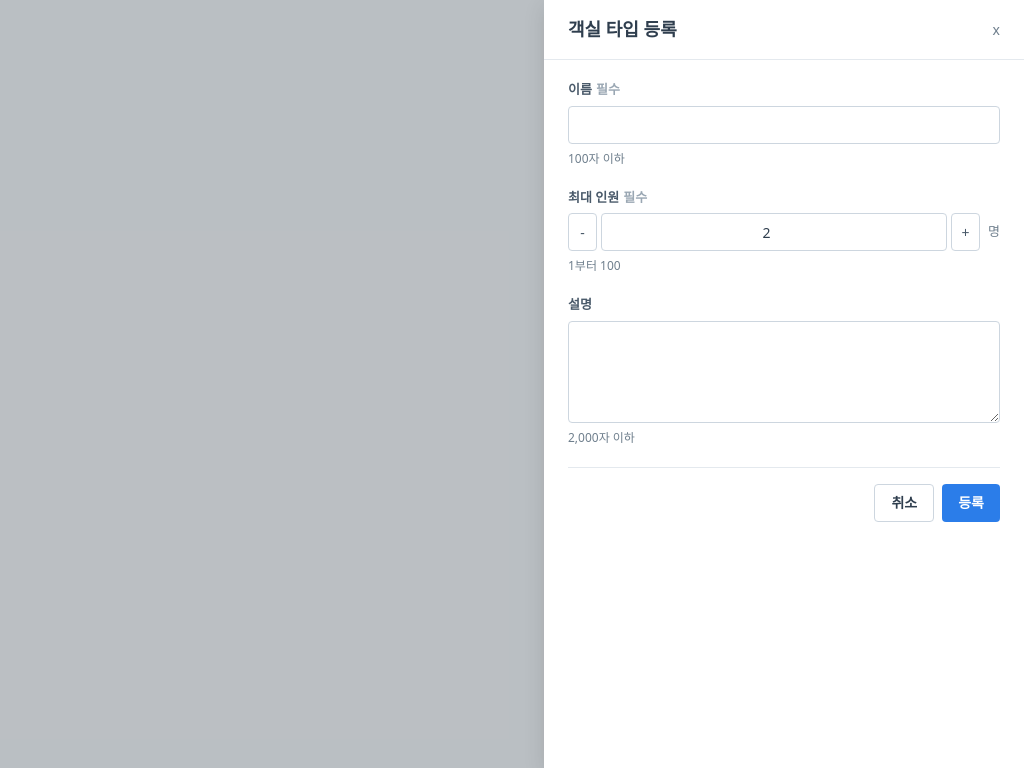
Test: H3 옆 패널 › 등록. 화면 검사에 걸리면 요청이 안 나가고, 통과하면 CAT-06 본문과 닫기
Replace the text in the number field labelled "최대 인원" with "101" at (774, 232), box [601,213,947,251]
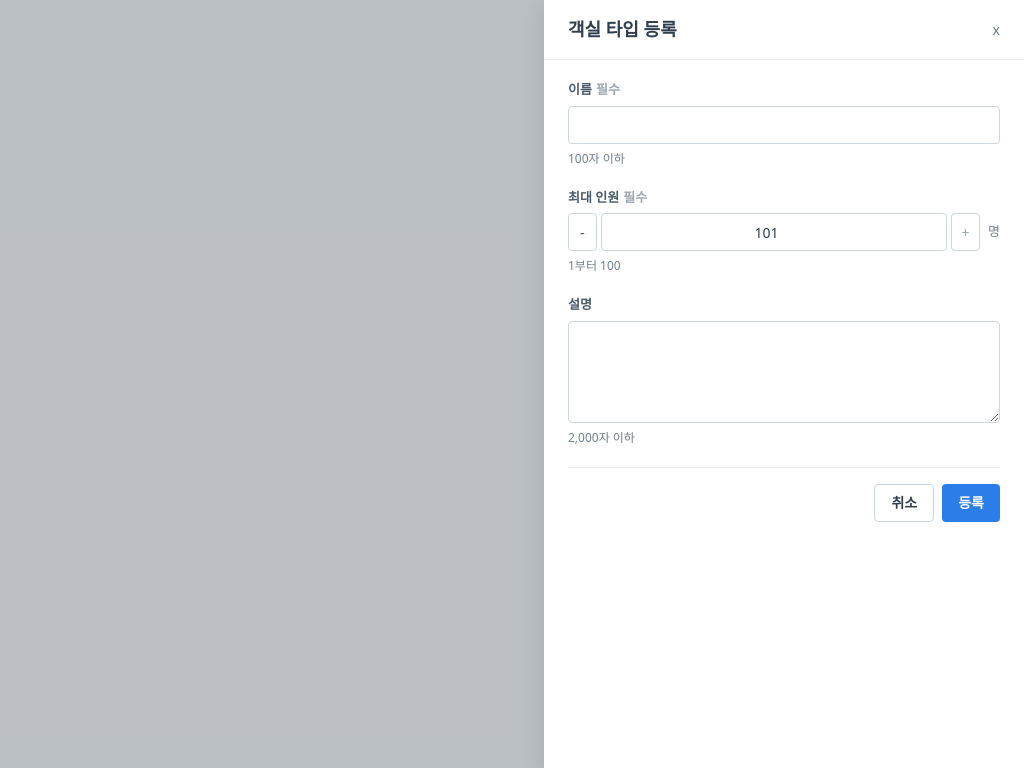
Click the button "등록".
click(971, 502)  # box [942,484,1000,522]
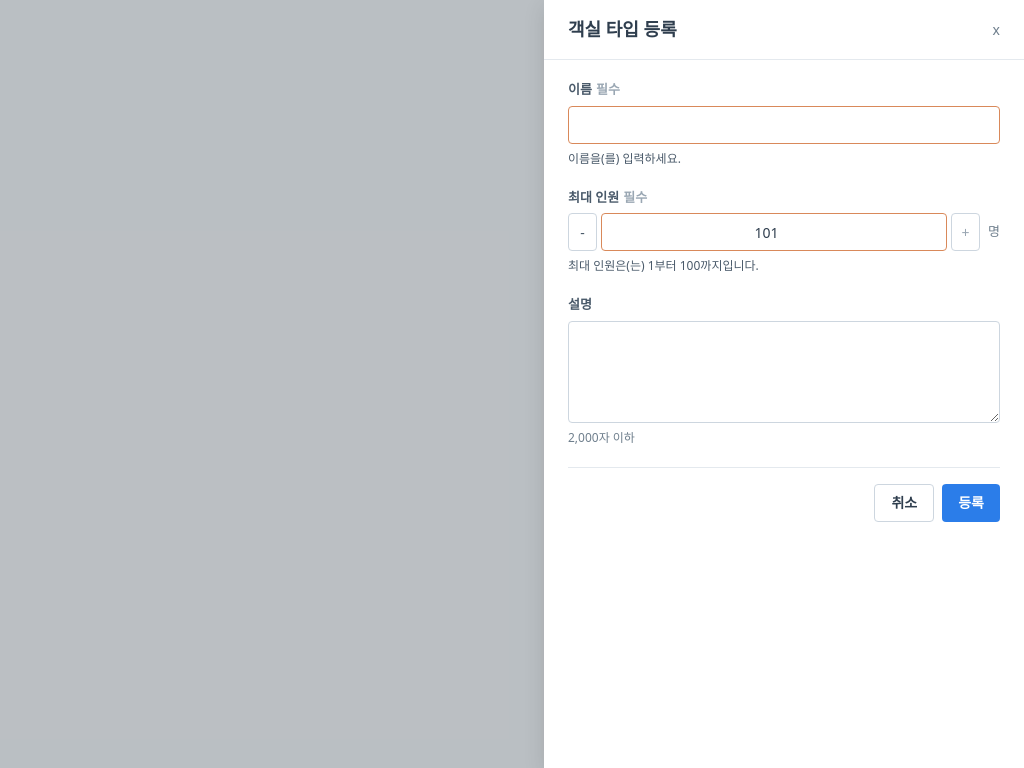
Check: the text "이름을(를) 입력하세요." is shown, box [568,150,681,166]
Check: the text "최대 인원은(는) 1부터 100까지입니다." is shown, box [568,257,759,274]
Type "리버 트윈" into the field labelled "이름".
click(784, 124); type("리버 트윈")  # box [568,106,1000,144]
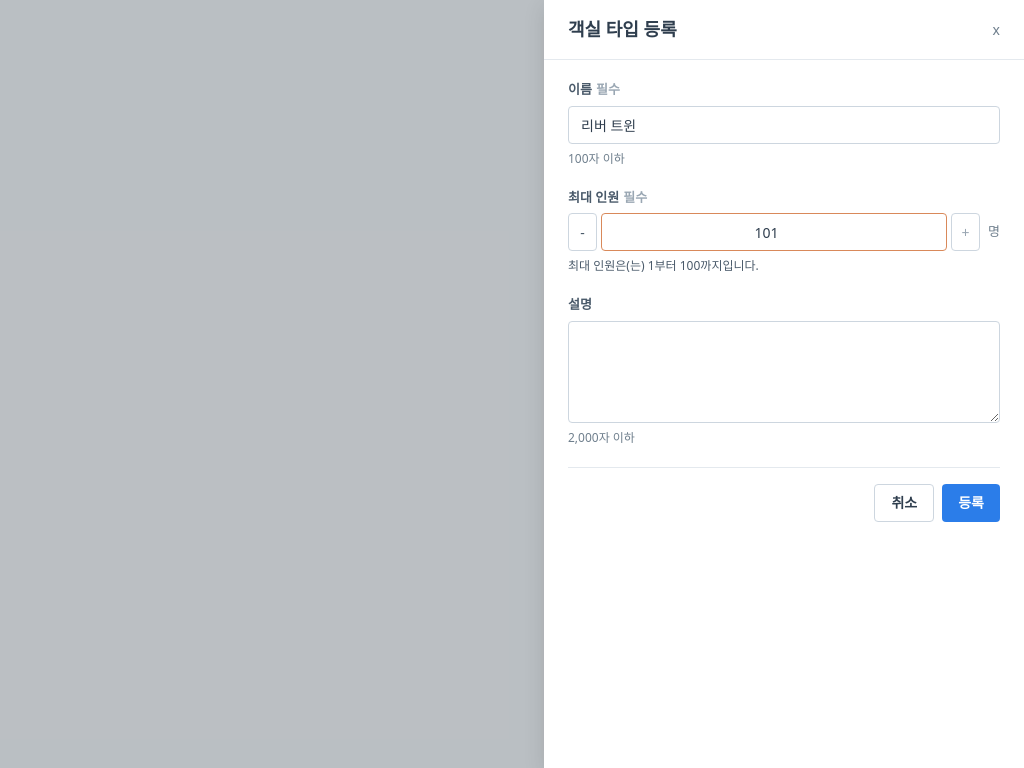
Replace the text in the number field labelled "최대 인원" with "3" at (774, 232), box [601,213,947,251]
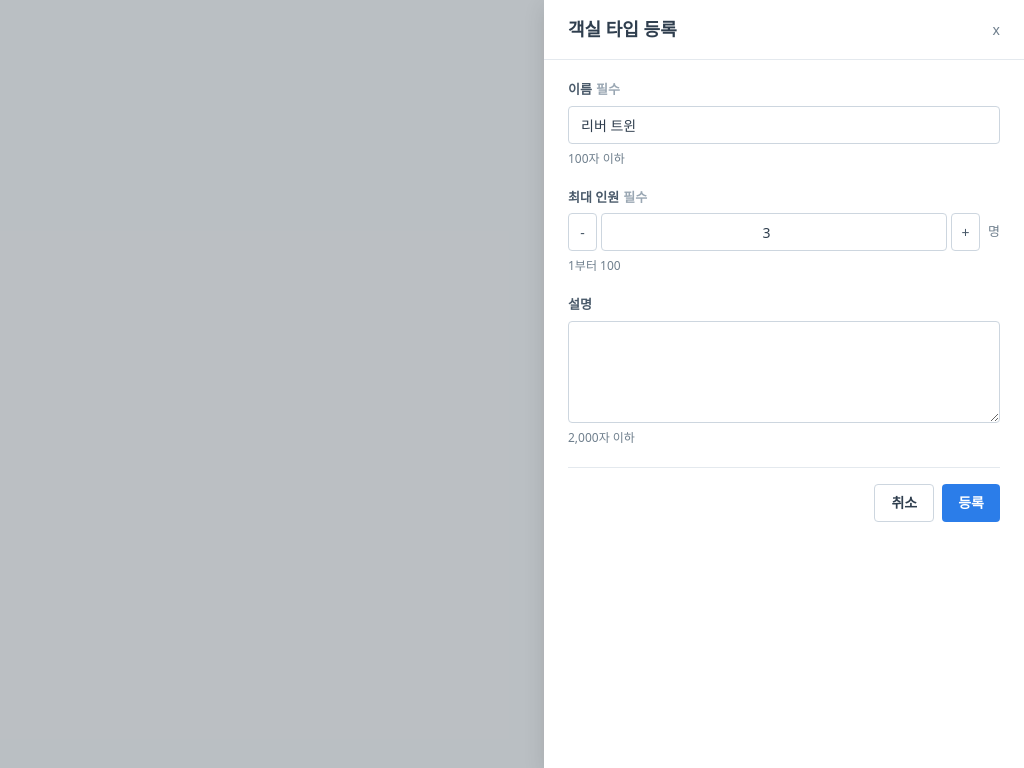
Click the button "등록".
click(971, 502)  # box [942,484,1000,522]
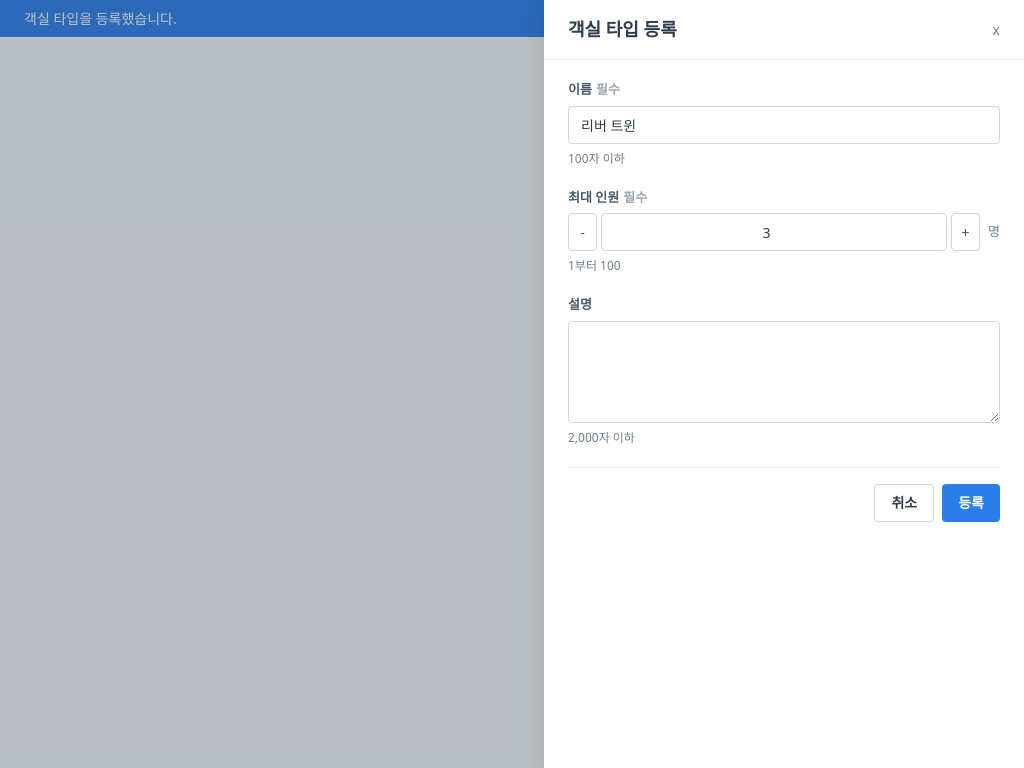
Check: the text "객실 타입을 등록했습니다." is shown, box [24,9,177,28]
